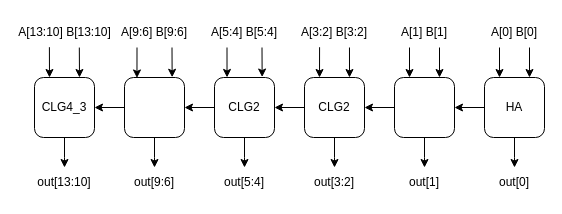
This 562x214 diagram has some shape labels left out. Each missing label, with the centre of its shape:
"CLG4" goes at pixel 154 107.
"FA" goes at pixel 424 107.
